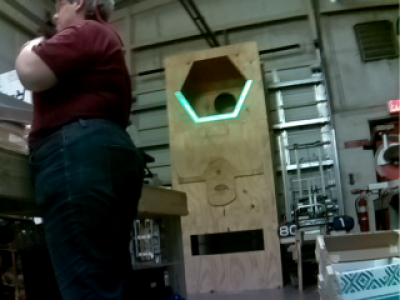target: (174, 80, 253, 123)
